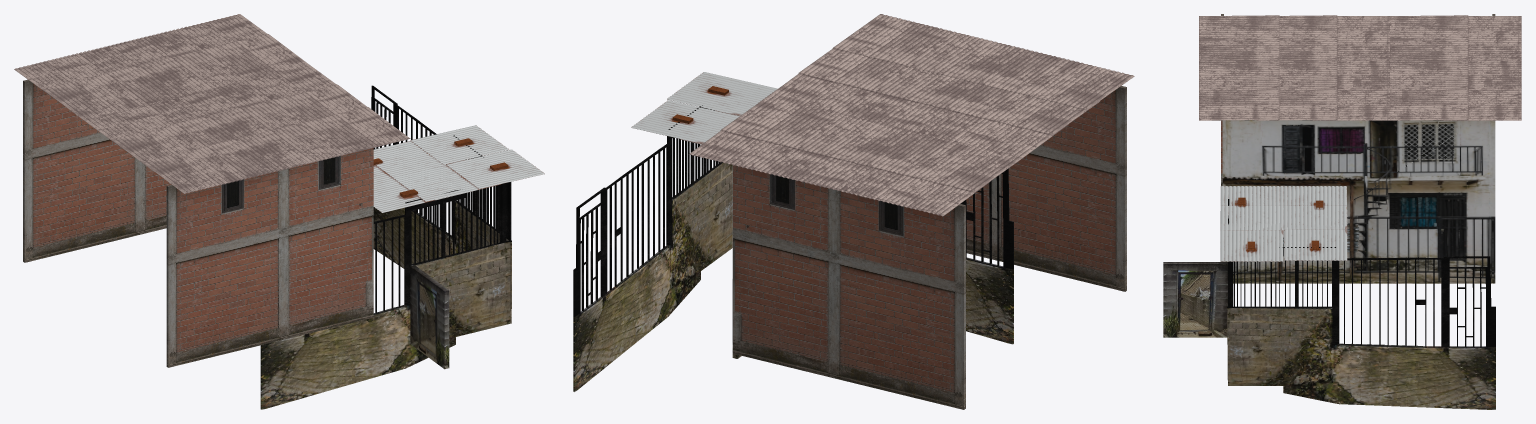
Rendered from casa_derecha_10.fbx.
3 renders of one model, left to right at view 1: azimuth 30°, elevation 25°; view 2: azimuth 150°, elevation 25°; view 3: azimuth 270°, elevation 25°, orthographic. The views are drawn at different scales.
Visible parts, largest first — view 1: Techo 10, casa_izquierda_14B.003, casa_derecha_10B.002, casa_izquierda_14B.004, Techo_10, casa_derecha_10B.001, casa_derecha_10C.001; view 2: Techo 10, casa_izquierda_14B.004, casa_derecha_10B.001, casa_izquierda_14B.003, casa_derecha_10B.002, Techo_10; view 3: casa_derecha_10, Techo 10, casa_derecha_10B.001, Techo_10, casa_derecha_10C.001.
Boxes of the visible parts, bbox=[...] form: Techo 10: bbox=[14, 14, 410, 194]; casa_izquierda_14B.003: bbox=[166, 148, 373, 367]; casa_derecha_10B.002: bbox=[260, 183, 510, 409]; casa_izquierda_14B.004: bbox=[23, 79, 171, 262]; Techo_10: bbox=[373, 125, 544, 212]; casa_derecha_10B.001: bbox=[371, 85, 511, 323]; casa_derecha_10C.001: bbox=[410, 265, 449, 369]; Techo 10: bbox=[688, 14, 1134, 216]; casa_izquierda_14B.004: bbox=[733, 165, 965, 409]; casa_derecha_10B.001: bbox=[573, 105, 732, 392]; casa_izquierda_14B.003: bbox=[966, 86, 1126, 291]; casa_derecha_10B.002: bbox=[960, 168, 1013, 344]; Techo_10: bbox=[631, 72, 777, 144]; casa_derecha_10: bbox=[1222, 120, 1495, 283]; Techo 10: bbox=[1199, 15, 1521, 120]; casa_derecha_10B.001: bbox=[1227, 247, 1495, 409]; Techo_10: bbox=[1220, 186, 1347, 261]; casa_derecha_10C.001: bbox=[1163, 262, 1227, 337].
Size of the model in its own units: 2013 by 1282 by 1755.
